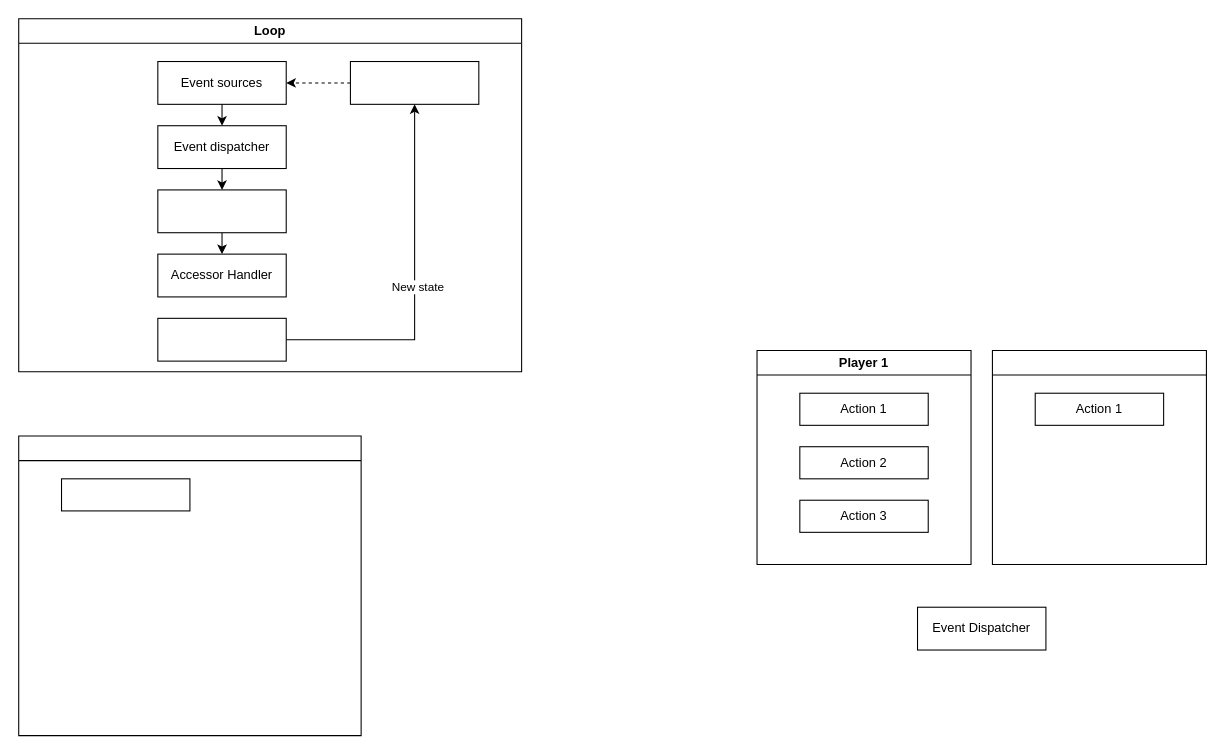
Image size: 1225x754. Some labels were removed from this diagram. Here are the shapes that lost their labels. From the top down, the box of each, then its label:
(349, 60, 479, 104): States
(157, 189, 286, 233): Rule executor
(157, 317, 286, 361): State Changed
(991, 349, 1206, 564): Player 2
(18, 435, 361, 736): Event
